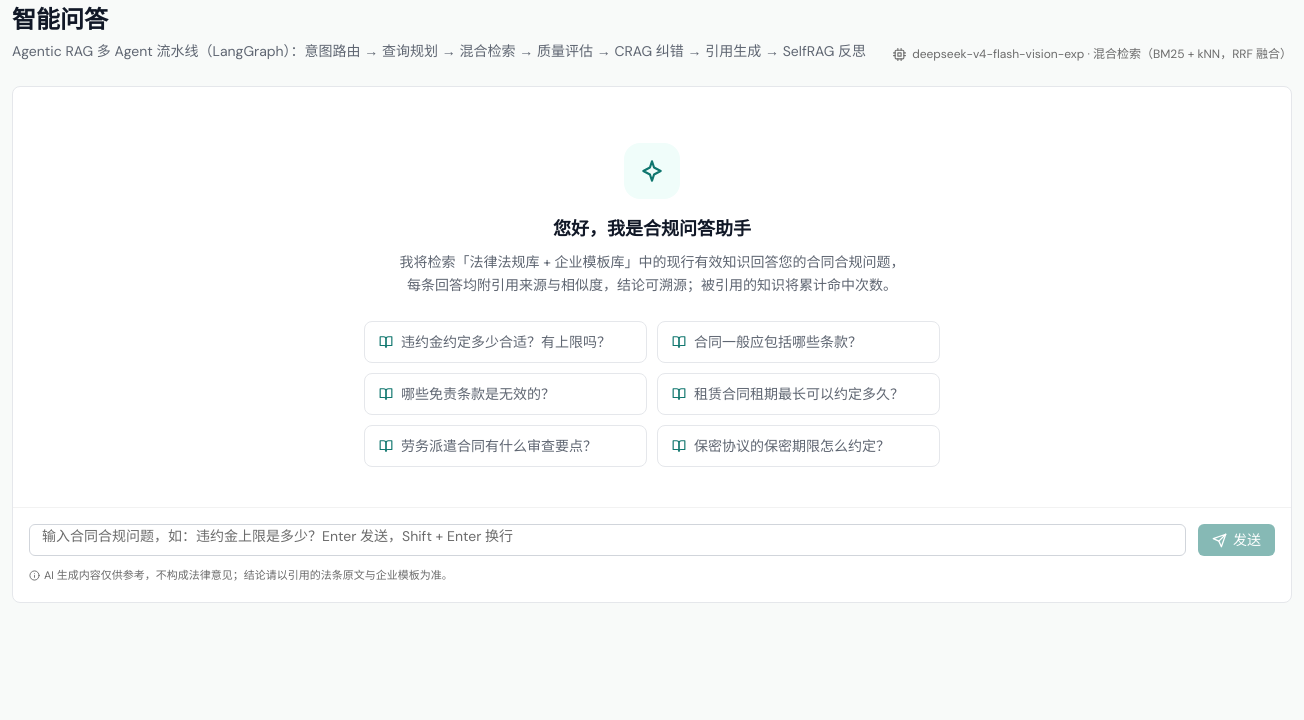
QaAssistantView › 流式接口报错时把错误提示追加到回答
Type "测试" into the text box with placeholder "输入合同合规问题，如：违约金上限是多少？Enter 发送，Shift + Enter 换行" at (608, 540), box x1=29 y1=524 x2=1186 y2=556
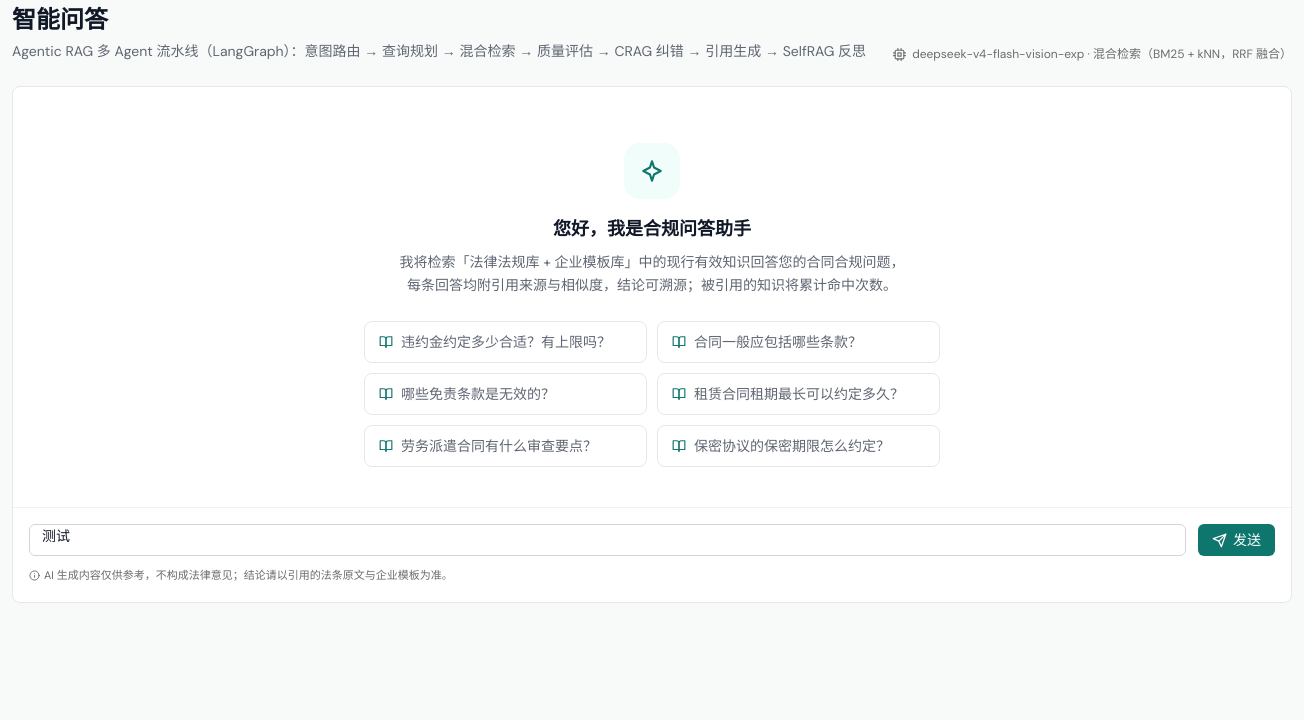
Press Enter in the text box, box x1=29 y1=524 x2=1186 y2=556
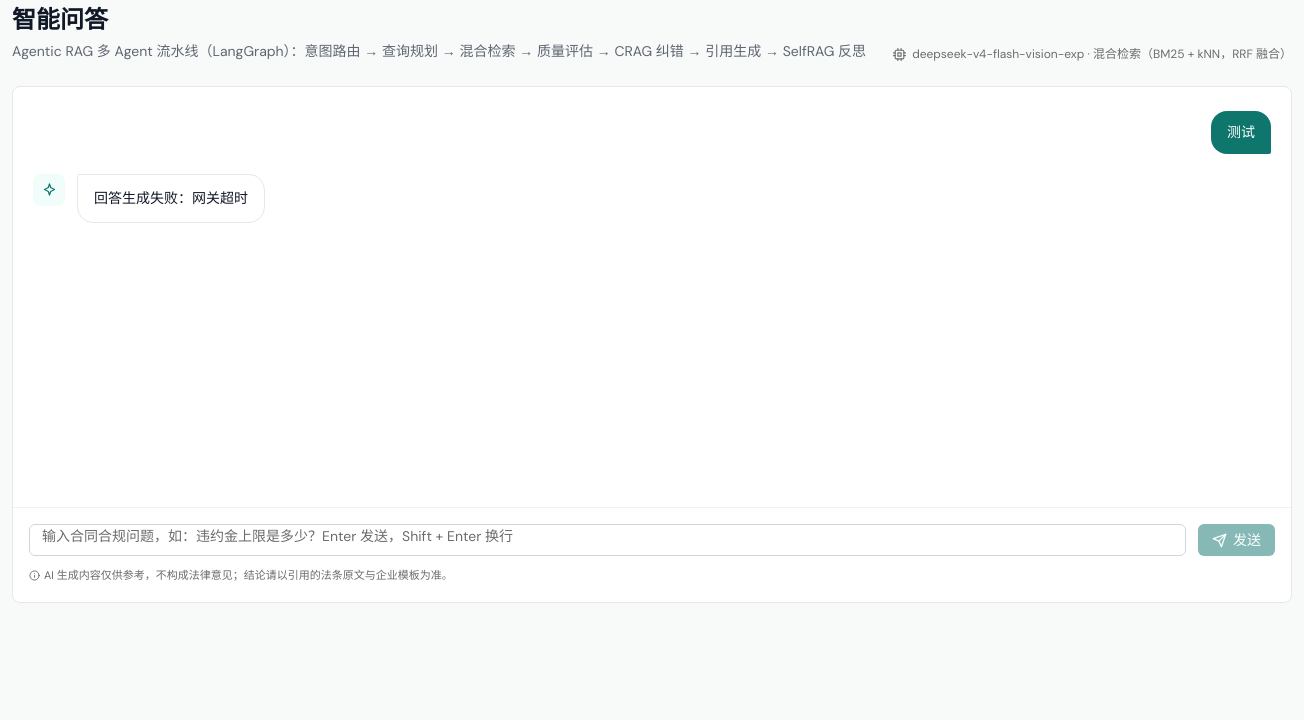
Expected: the text "网关超时" is shown, x1=94 y1=189 x2=248 y2=207
